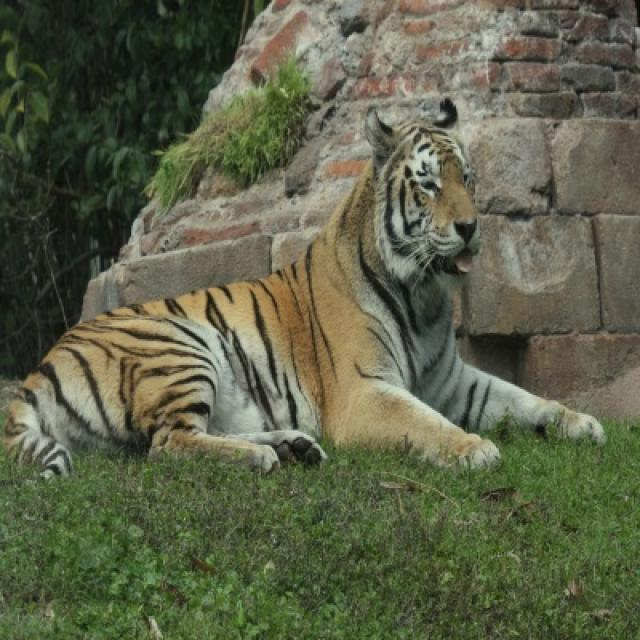Tiger: (18, 102, 606, 470)
